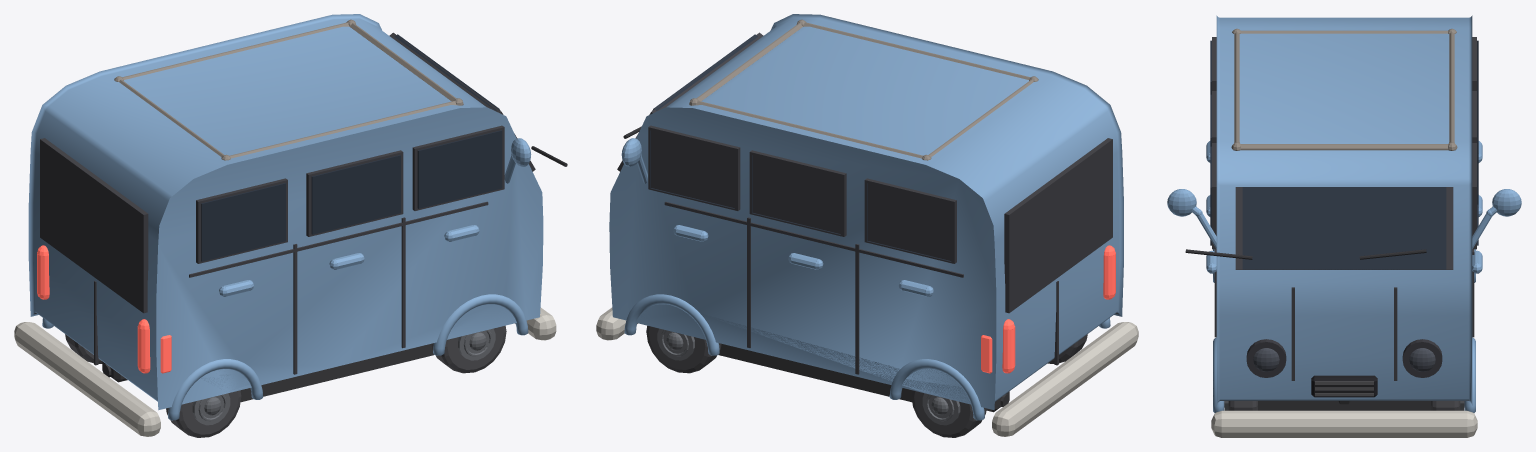
File: 06-van.glb
3 views of the same model, side by side, from view 1: azimuth 30°, elevation 25°; view 2: azimuth 150°, elevation 25°; view 3: azimuth 270°, elevation 25° (orthographic).
Parts seen in each view (by area): view 1: Body, RearWindowTrim, SlideWinGlass_L, FrontWinGlass_L, RearWinGlass_L, BumperR, UnderSlab, ArchLip_x+0.60_L, ArchLip_x-0.60_L, Tire_x+0.60_L, Tire_x-0.60_L, DoorSeamH_L (+13 smaller); view 2: Body, RearWindowTrim, SlideWinTrim_R, FrontWinTrim_R, RearWinTrim_R, BumperR, UnderSlab, ArchLip_x+0.60_R, ArchLip_x-0.60_R, Tire_x+0.60_R, Tire_x-0.60_R, DoorSeamH_R (+13 smaller); view 3: Body, WindshieldGlass, BumperF, UnderSlab, WindshieldTrim, GutterF, Grille, GutterB, HeadBezel_R, HeadBezel_L, GutterR, GutterL (+10 smaller).
Part boxes in pixels (bbox=[...]): Body: bbox=[28, 14, 543, 410]; RearWindowTrim: bbox=[40, 138, 148, 313]; SlideWinGlass_L: bbox=[311, 155, 400, 234]; FrontWinGlass_L: bbox=[417, 130, 502, 208]; RearWinGlass_L: bbox=[201, 183, 285, 261]; BumperR: bbox=[14, 322, 160, 436]; UnderSlab: bbox=[240, 344, 433, 402]; ArchLip_x+0.60_L: bbox=[433, 294, 528, 355]; ArchLip_x-0.60_L: bbox=[168, 359, 263, 420]; Tire_x+0.60_L: bbox=[431, 325, 506, 373]; Tire_x-0.60_L: bbox=[166, 390, 241, 437]; DoorSeamH_L: bbox=[189, 201, 488, 277]; Body: bbox=[609, 14, 1123, 410]; RearWindowTrim: bbox=[1004, 138, 1112, 313]; SlideWinTrim_R: bbox=[749, 150, 846, 236]; FrontWinTrim_R: bbox=[648, 125, 740, 210]; RearWinTrim_R: bbox=[864, 178, 956, 263]; BumperR: bbox=[992, 322, 1138, 436]; UnderSlab: bbox=[718, 344, 912, 402]; ArchLip_x+0.60_R: bbox=[624, 294, 719, 355]; ArchLip_x-0.60_R: bbox=[889, 359, 984, 420]; Tire_x+0.60_R: bbox=[646, 325, 721, 373]; Tire_x-0.60_R: bbox=[911, 390, 986, 437]; DoorSeamH_R: bbox=[664, 201, 963, 277]; Body: bbox=[1216, 15, 1472, 405]; WindshieldGlass: bbox=[1242, 187, 1446, 269]; BumperF: bbox=[1211, 410, 1477, 437]; UnderSlab: bbox=[1258, 401, 1430, 410]; WindshieldTrim: bbox=[1235, 187, 1453, 269]; GutterF: bbox=[1240, 144, 1448, 150]; Grille: bbox=[1311, 375, 1377, 397]; GutterB: bbox=[1240, 30, 1448, 33]; HeadBezel_R: bbox=[1402, 339, 1442, 377]; HeadBezel_L: bbox=[1246, 339, 1286, 377]; GutterR: bbox=[1449, 32, 1454, 142]; GutterL: bbox=[1234, 32, 1239, 142].
Bounding box in the file's own units: 1.89 × 1.19 × 1.39.
